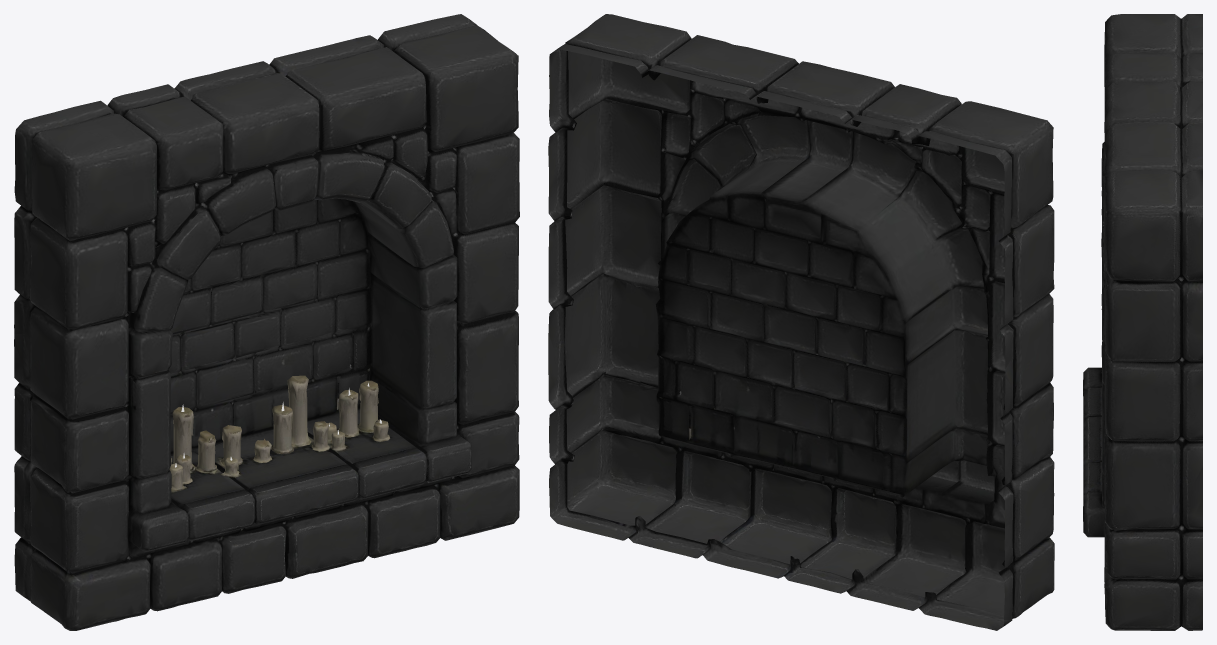
The model's file is Wall_Candles_01.fbx.
3 renders of one model, left to right at view 1: azimuth 30°, elevation 25°; view 2: azimuth 150°, elevation 25°; view 3: azimuth 270°, elevation 25°, orthographic. The views are drawn at different scales.
Parts seen in each view (by area): view 1: Wall_Candles_01; view 2: Wall_Candles_01; view 3: Wall_Candles_01.
Part boxes in pixels (x1,y1,x2,y2): Wall_Candles_01: [14, 14, 519, 630]; Wall_Candles_01: [548, 14, 1054, 630]; Wall_Candles_01: [1083, 14, 1202, 630].
Size of the model in its own units: 304 by 303 by 77.1.
2 materials, 1 textured.
